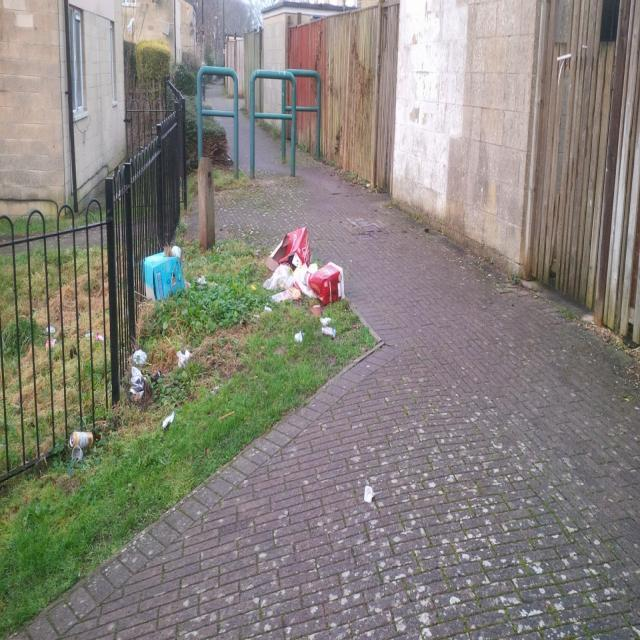plastic: (253, 232, 358, 350), (130, 346, 199, 432), (142, 244, 194, 314), (62, 428, 99, 465), (360, 475, 380, 511)
